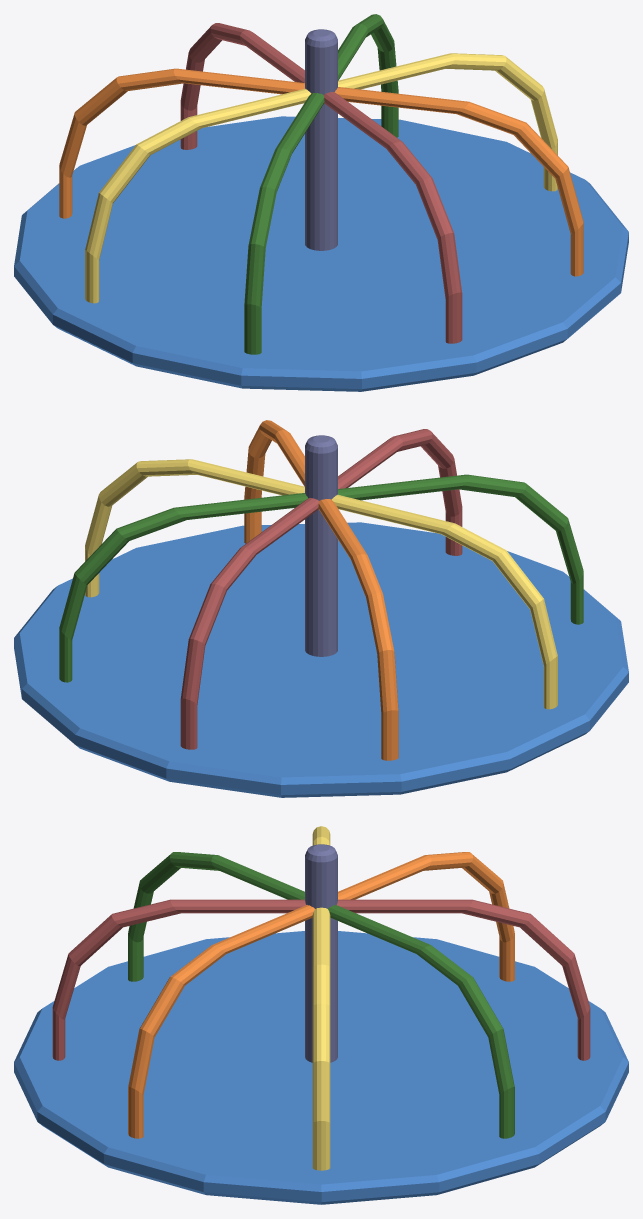
Rendered from Children_swing_2.fbx.
The picture shows the model from 3 angles, top to bottom: view 1: azimuth 30°, elevation 25°; view 2: azimuth 150°, elevation 25°; view 3: azimuth 270°, elevation 25°; orthographic projection.
Visible parts, largest first — view 1: Children_swing_2; view 2: Children_swing_2; view 3: Children_swing_2.
Boxes of the visible parts, left/top/right/bottom form: Children_swing_2: left=14, top=14, right=628, bottom=391; Children_swing_2: left=14, top=420, right=628, bottom=797; Children_swing_2: left=14, top=826, right=628, bottom=1204.
Size of the model in its own units: 235 by 235 by 124.
